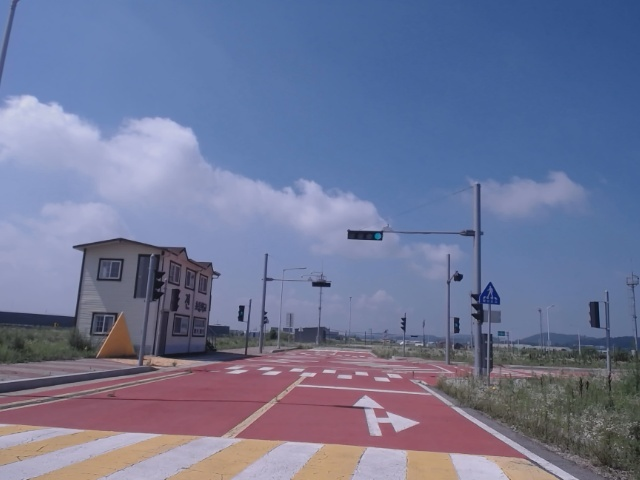straight_green_4: (348, 231, 383, 240)
